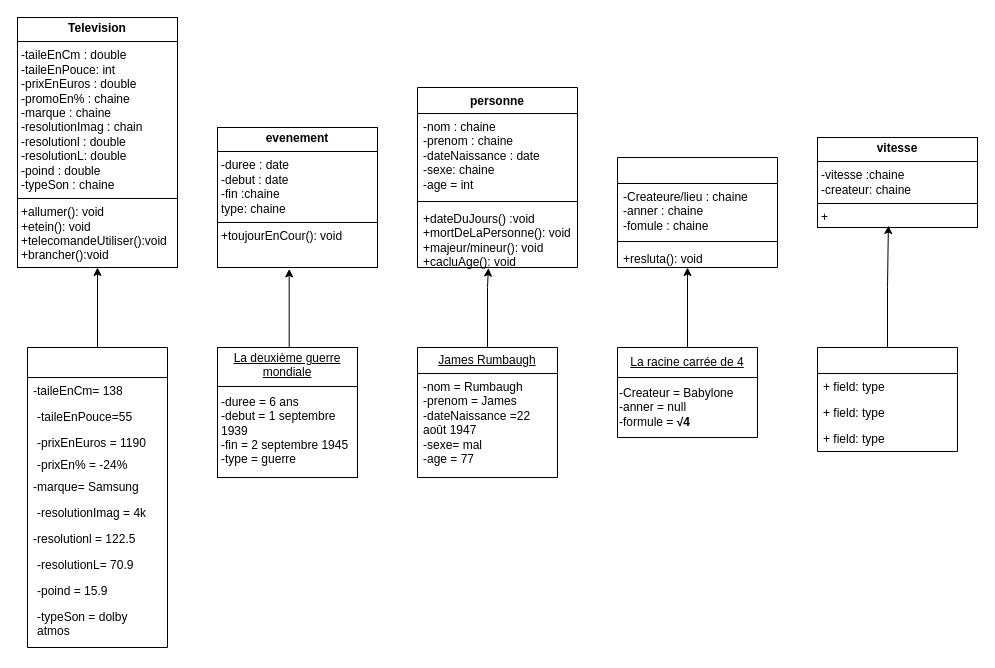
The diagram is 995 pixels wide and 668 high, and some of its shapes have lost their labels. Each missing label, with the box of its shape:
Classname: (816, 346, 958, 452)
formuleMatch: (616, 156, 778, 268)
TV OLED SAMSUNG OLED TQ55S92D 2024: (26, 346, 168, 648)
